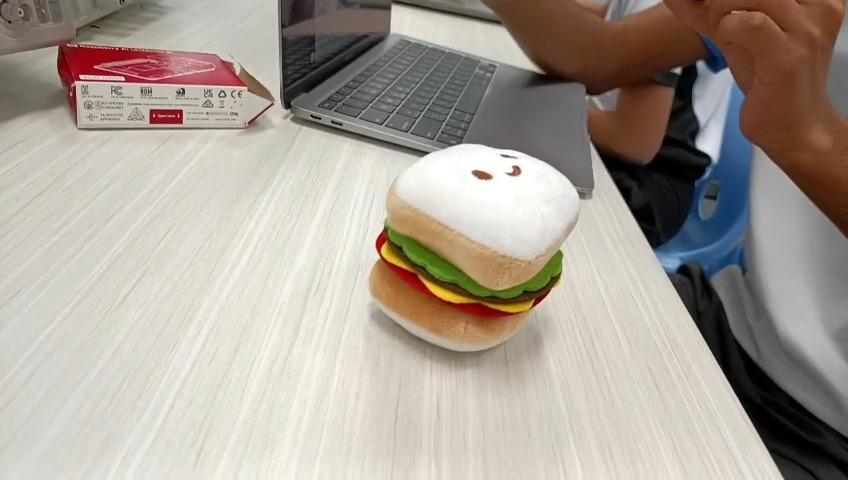objects: (368, 142, 581, 353)
